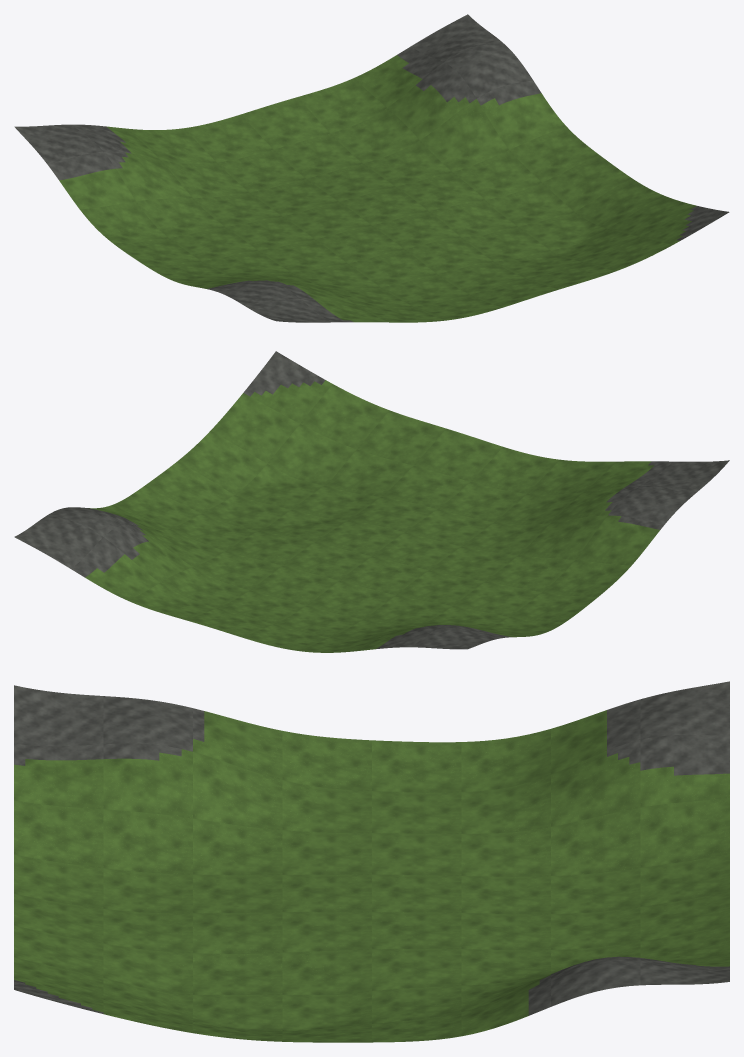
File: terrain_v3.obj
The picture shows the model from 3 angles, top to bottom: view 1: azimuth 30°, elevation 25°; view 2: azimuth 150°, elevation 25°; view 3: azimuth 270°, elevation 25°; orthographic projection. The views are drawn at different scales.
Visible parts, largest first — view 1: StoryWorld_Terrain_v3; view 2: StoryWorld_Terrain_v3; view 3: StoryWorld_Terrain_v3.
Boxes of the visible parts, bbox=[...] form: StoryWorld_Terrain_v3: bbox=[14, 14, 729, 322]; StoryWorld_Terrain_v3: bbox=[14, 351, 729, 652]; StoryWorld_Terrain_v3: bbox=[14, 681, 729, 1042].
Size of the model in its own units: 120 by 16.4 by 120.
Materials: 4 (4 with a texture image).
